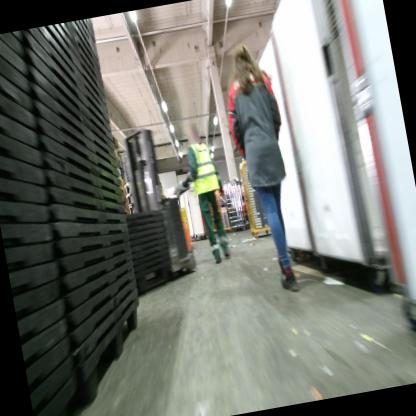pallet: (109, 132, 121, 161), (113, 156, 124, 180), (125, 190, 140, 206), (117, 184, 130, 202), (124, 181, 138, 195), (129, 202, 141, 215), (121, 196, 131, 210), (122, 207, 131, 216), (117, 178, 125, 187)
pallet_truck: (120, 120, 204, 282)
